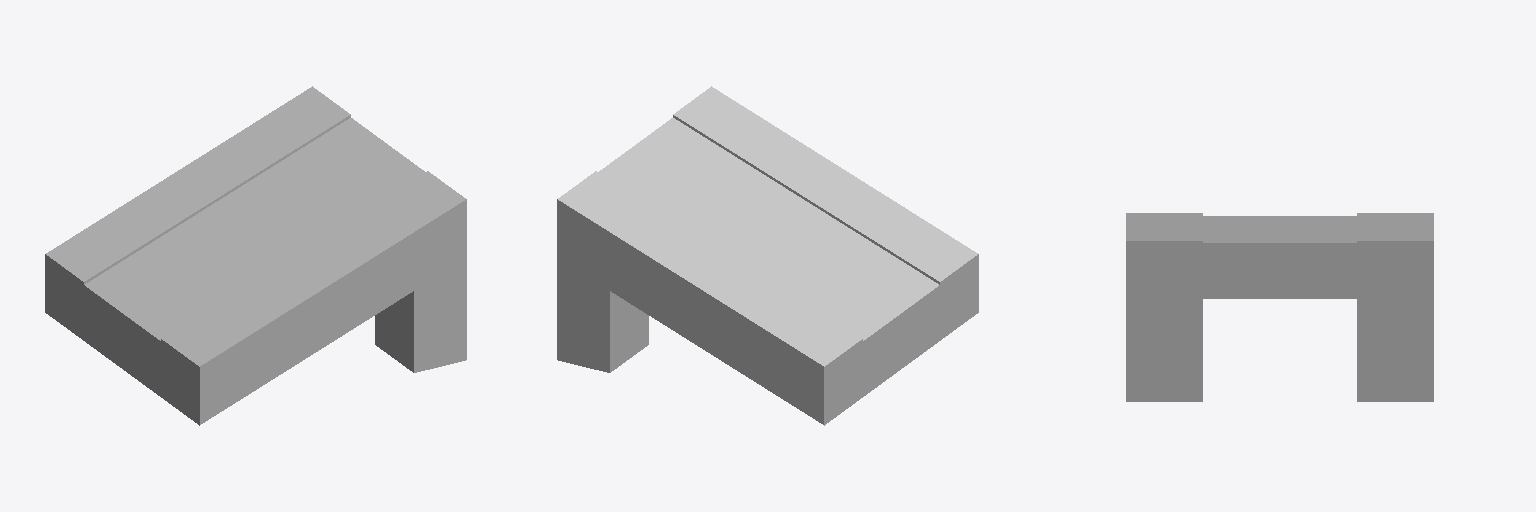
File: tile036.obj
3 renders of one model, left to right at view 1: azimuth 30°, elevation 25°; view 2: azimuth 150°, elevation 25°; view 3: azimuth 270°, elevation 25°, orthographic.
Visible parts, largest first — view 1: tile036; view 2: tile036; view 3: tile036.
Boxes of the visible parts, x1=… form: tile036: x1=45, y1=86, x2=466, y2=425; tile036: x1=557, y1=86, x2=978, y2=425; tile036: x1=1126, y1=213, x2=1433, y2=401.
Bounding box in the file's own units: 1 × 0.5767 × 1.